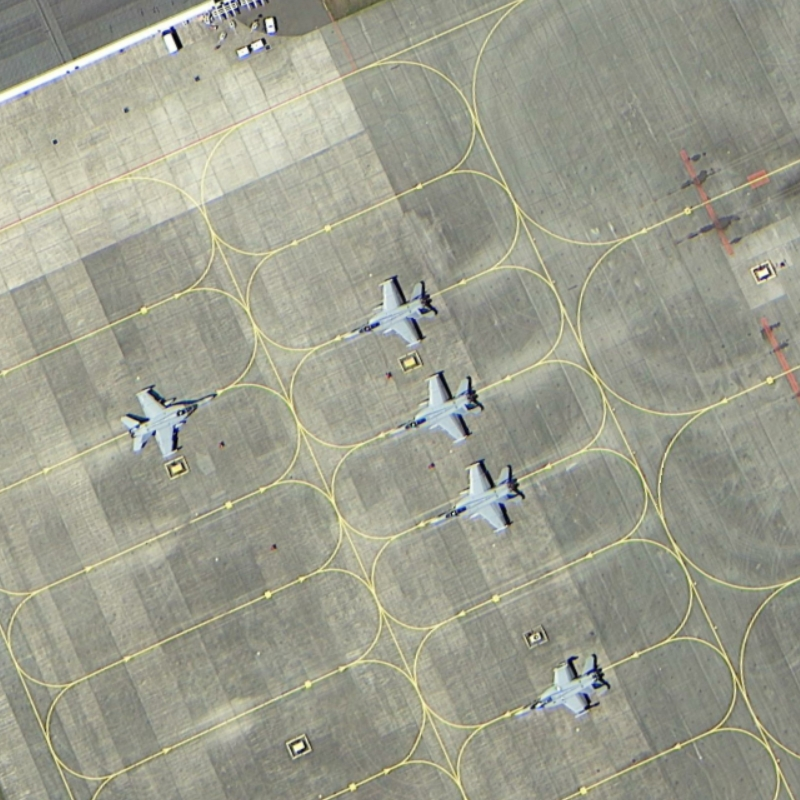A16: (413, 457, 531, 538), (329, 270, 441, 355), (113, 374, 227, 456), (503, 648, 616, 726), (382, 367, 490, 446)
